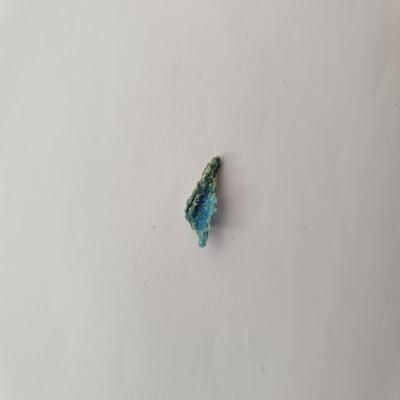plastic: (183, 152, 228, 250)
